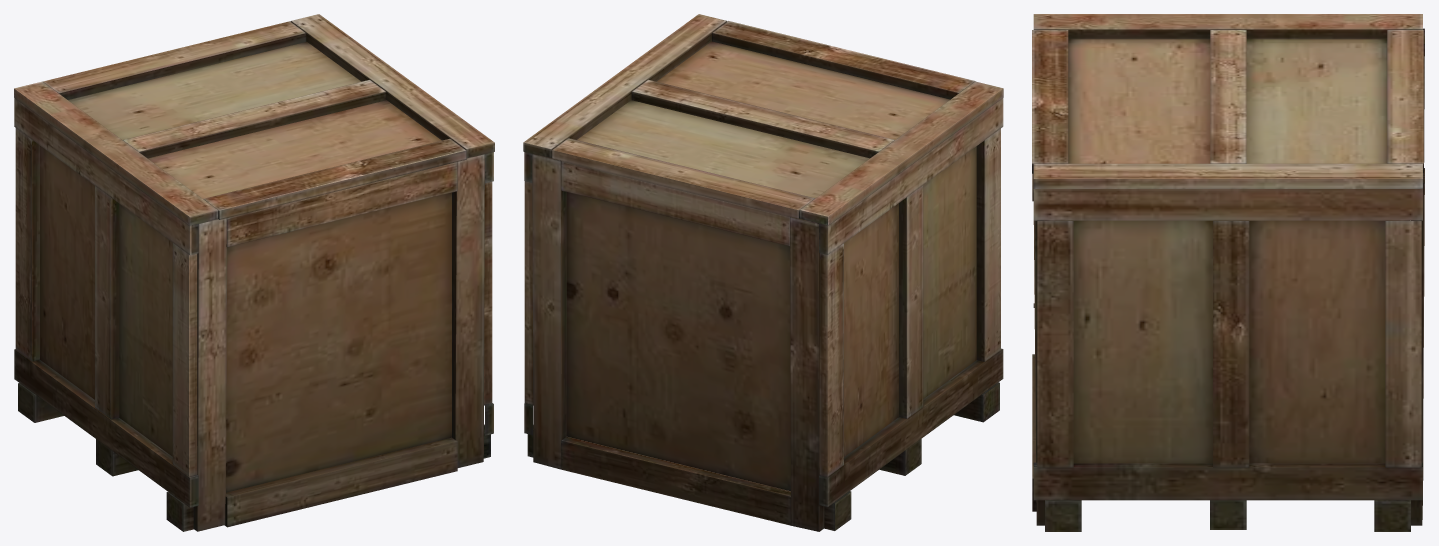
Rendered from crate_extrasmall.glb.
The picture shows the model from 3 angles, left to right: view 1: azimuth 30°, elevation 25°; view 2: azimuth 150°, elevation 25°; view 3: azimuth 270°, elevation 25°; orthographic projection. The views are drawn at different scales.
Parts seen in each view (by area): view 1: 0_Crate_ExtraSmall; view 2: 0_Crate_ExtraSmall; view 3: 0_Crate_ExtraSmall.
Part boxes in pixels (x1=…): 0_Crate_ExtraSmall: x1=14, y1=14, x2=494, y2=531; 0_Crate_ExtraSmall: x1=523, y1=14, x2=1003, y2=531; 0_Crate_ExtraSmall: x1=1032, y1=14, x2=1424, y2=531.
Size of the model in its own units: 1.23 by 1.22 by 1.23.
Materials: 1 (1 with a texture image).
